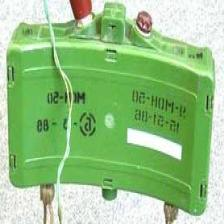MOH-50: (4, 12, 212, 220)
